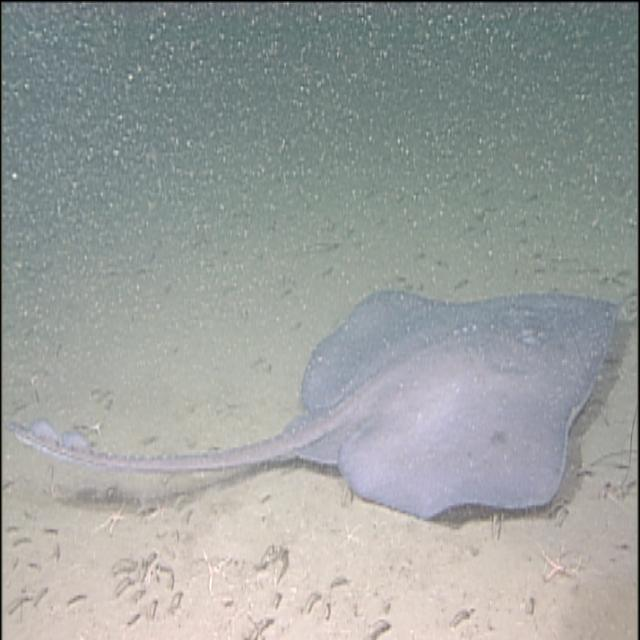Brittle Star: (536, 533, 589, 592), (192, 547, 244, 595), (92, 500, 138, 542), (147, 487, 191, 528), (80, 408, 116, 444), (336, 521, 368, 554)
Not Brittle Star: (6, 274, 632, 533)
